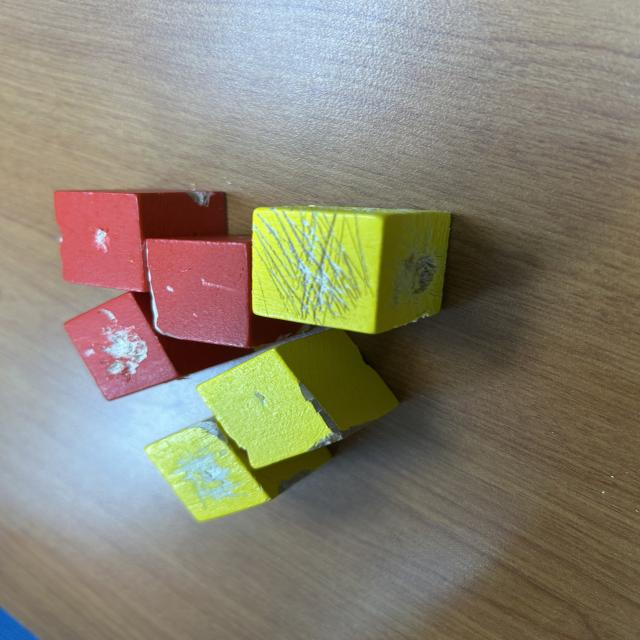broken: (196, 328, 402, 472), (250, 203, 452, 335), (62, 290, 256, 402), (143, 414, 333, 522), (144, 233, 320, 349), (52, 188, 230, 294)
